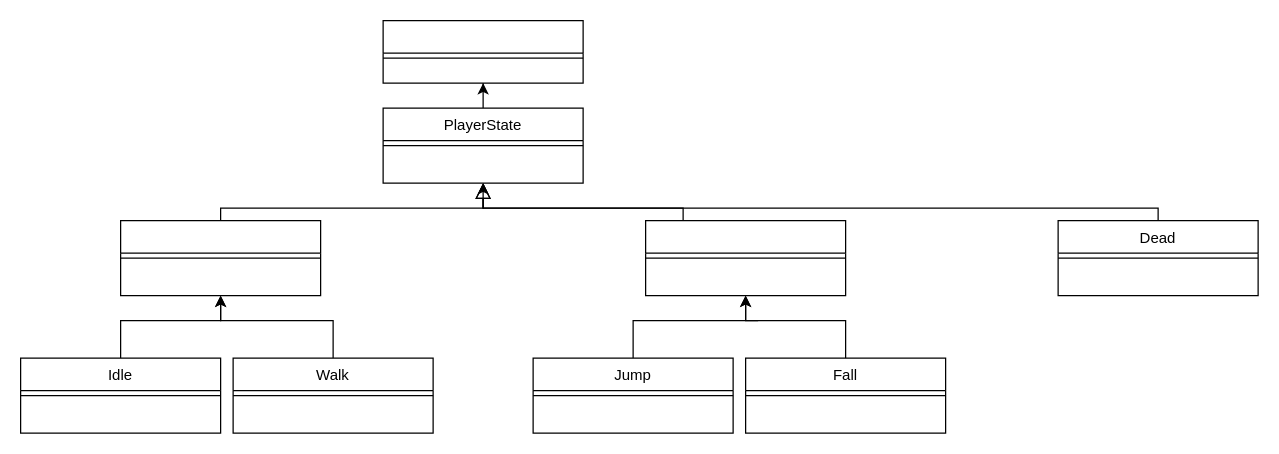
This 1279x454 diagram has some shape labels left out. The centre of each missing label's shape, as x and y in pixels:
"BaseState" goes at [482,51].
"Grounded" goes at [220,257].
"InAir" goes at [745,257].
